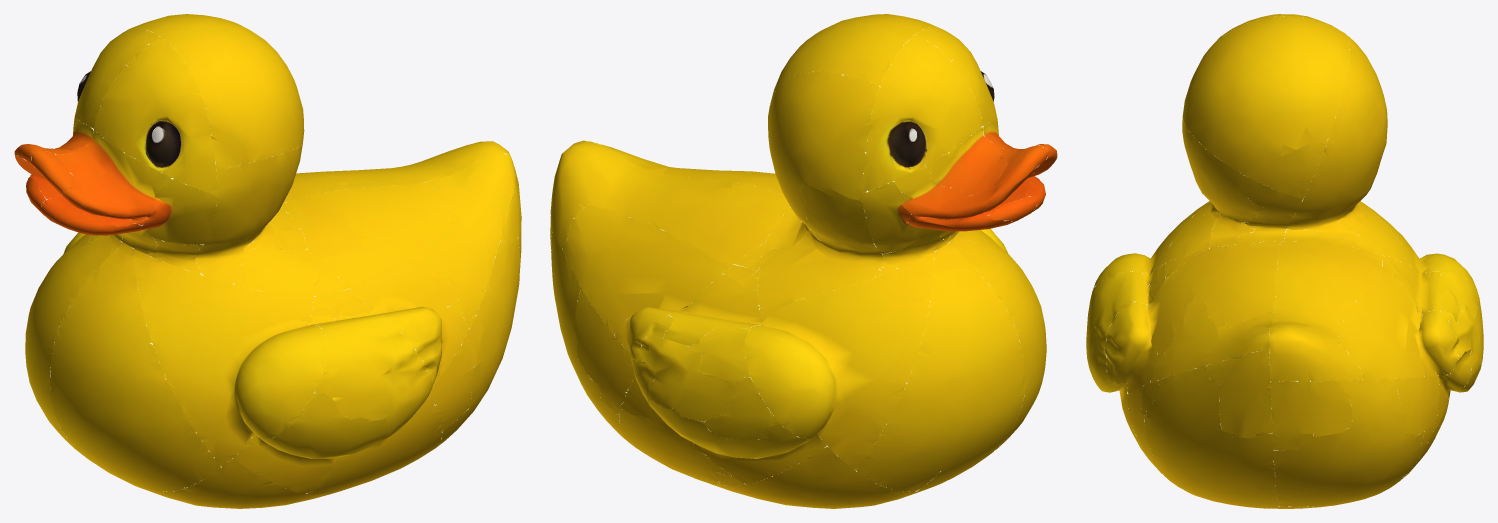
Rendered from patito.glb.
3 views of the same model, side by side, from view 1: azimuth 30°, elevation 25°; view 2: azimuth 150°, elevation 25°; view 3: azimuth 270°, elevation 25° (orthographic). The views are drawn at different scales.
Parts seen in each view (by area): view 1: patito; view 2: patito; view 3: patito.
Boxes of the visible parts, <box> form: patito: <box>14,14,521,508</box>; patito: <box>550,14,1057,508</box>; patito: <box>1086,14,1483,508</box>.
Bounding box in the file's own units: 0.9811 × 0.8842 × 0.786.
Materials: 1 (1 with a texture image).
